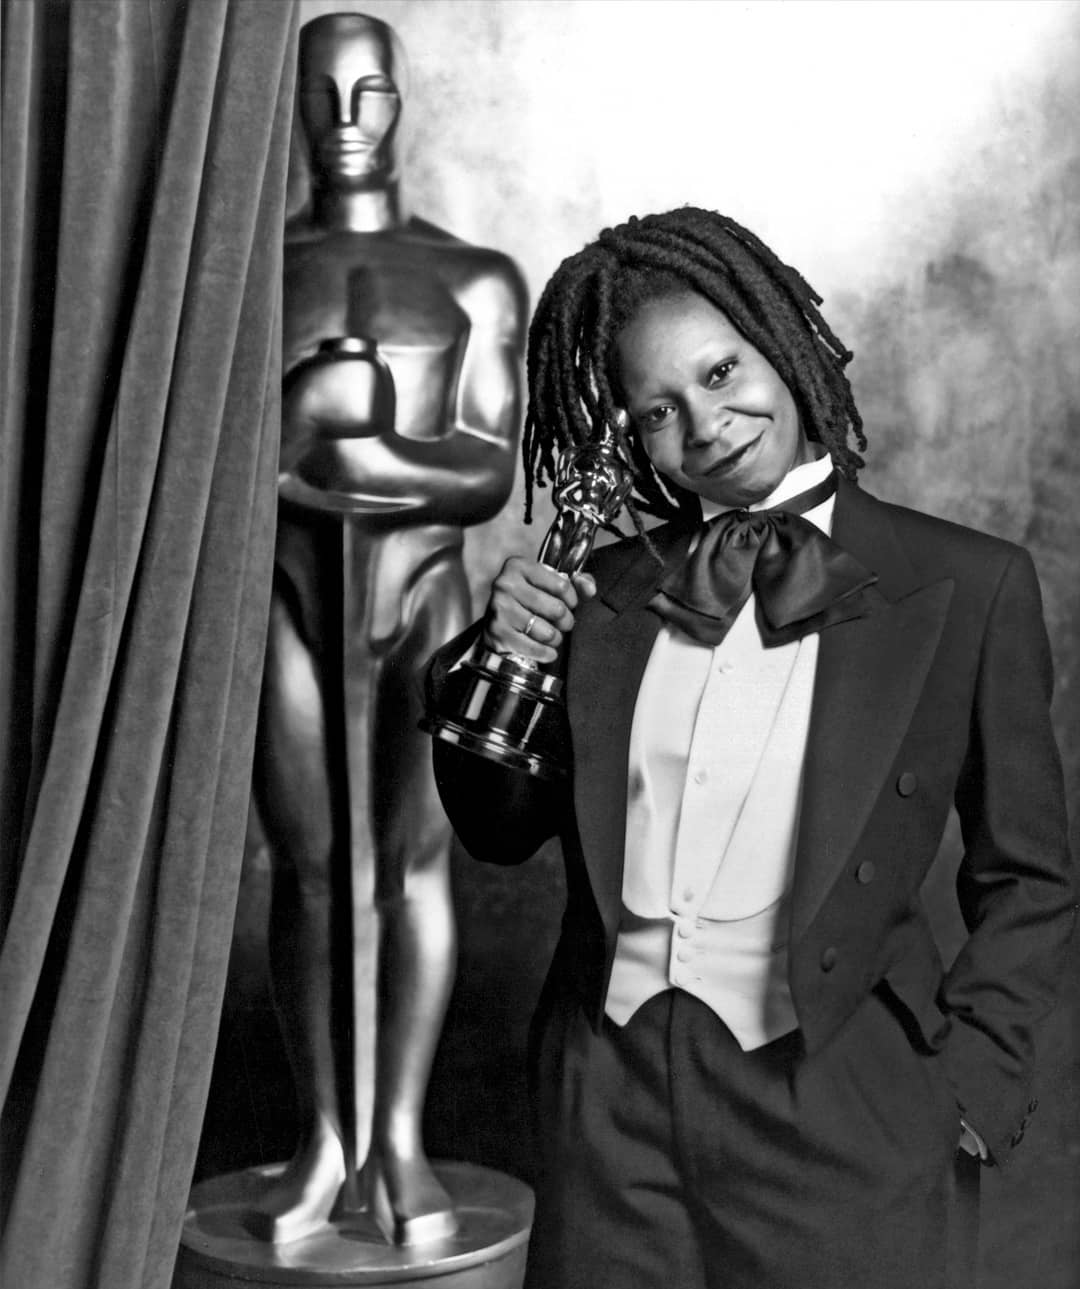hand: (490, 570, 583, 658)
